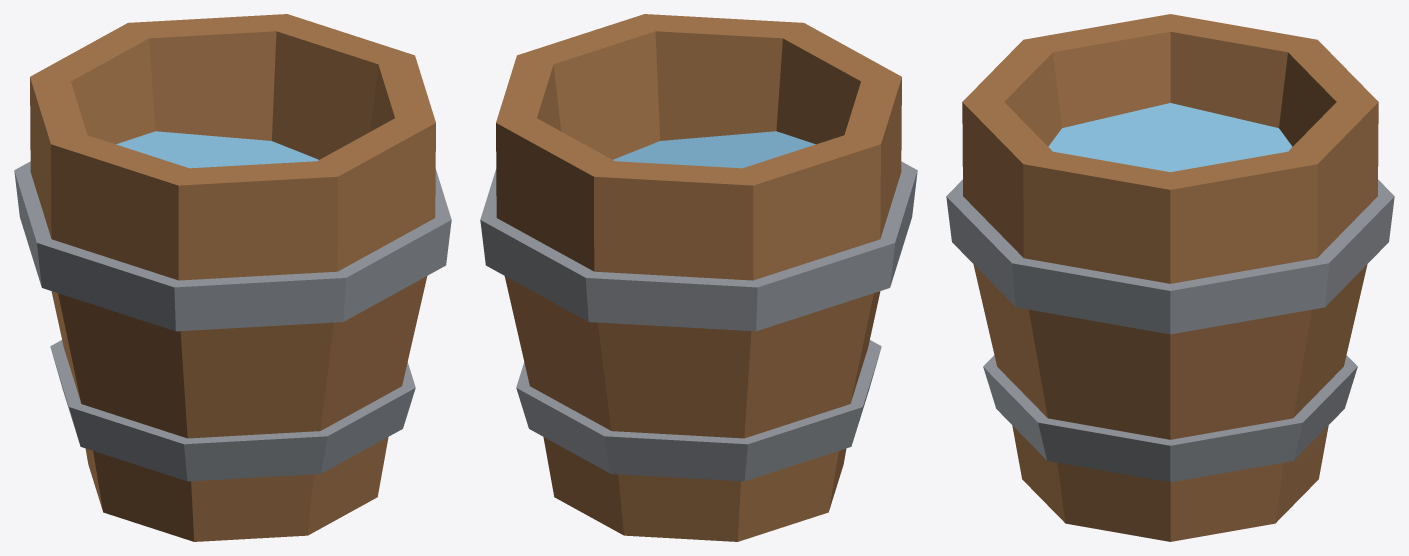
File: Kova_2.fbx
3 views of the same model, side by side, from view 1: azimuth 30°, elevation 25°; view 2: azimuth 150°, elevation 25°; view 3: azimuth 270°, elevation 25° (orthographic).
Visible parts, largest first — view 1: Kova_2; view 2: Kova_2; view 3: Kova_2.
Part boxes in pixels (x1,y1,x2,y2): Kova_2: (14, 14, 451, 541); Kova_2: (480, 14, 917, 541); Kova_2: (946, 14, 1394, 541).
Size of the model in its own units: 215 by 200 by 215.
